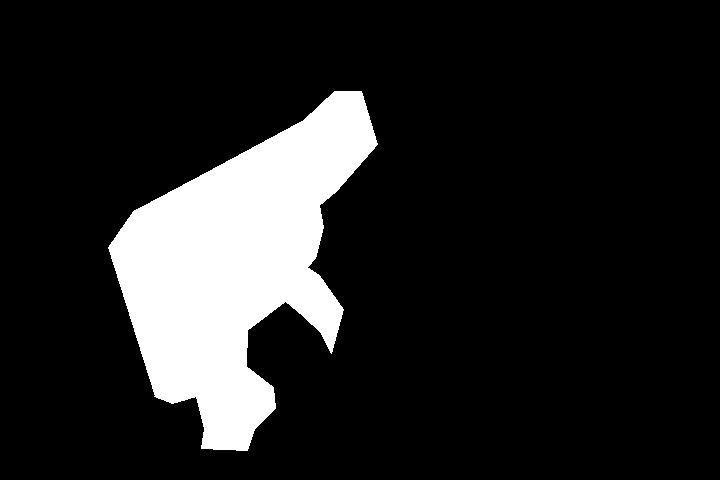Fire: (183, 44, 376, 259), (136, 258, 336, 407)
